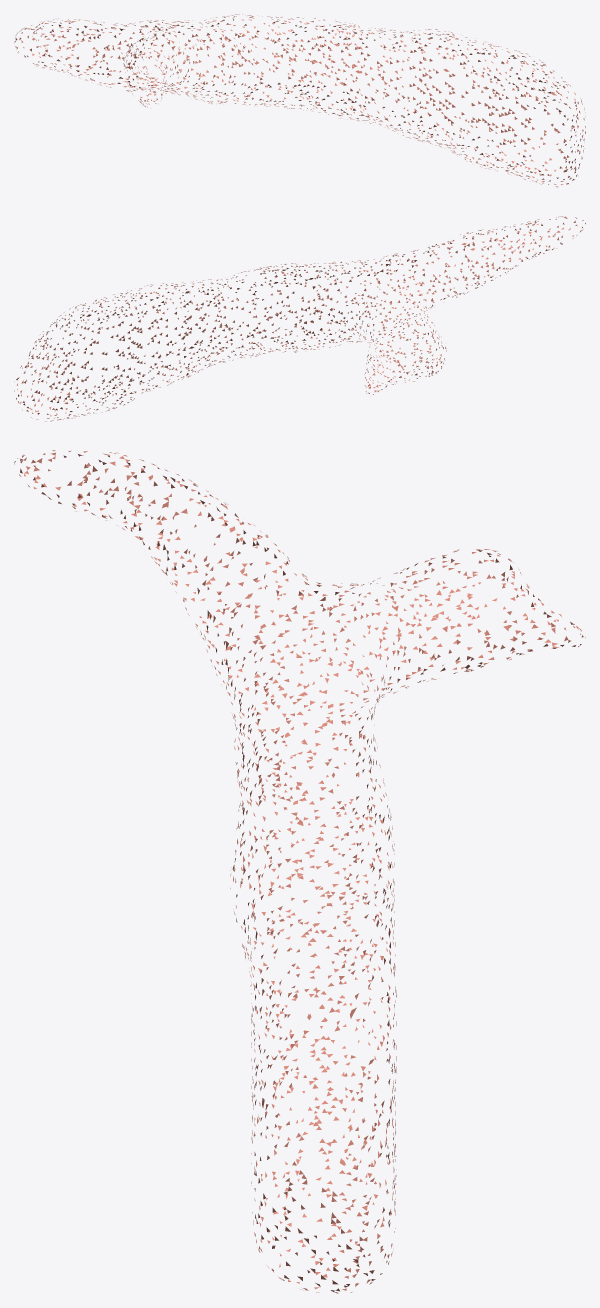
Rendered from morph_002.glb.
3 views of the same model, one above another, from view 1: azimuth 30°, elevation 25°; view 2: azimuth 150°, elevation 25°; view 3: azimuth 270°, elevation 25° (orthographic). The views are drawn at different scales.
Size of the model in its own units: 121 by 63.03 by 70.44.
